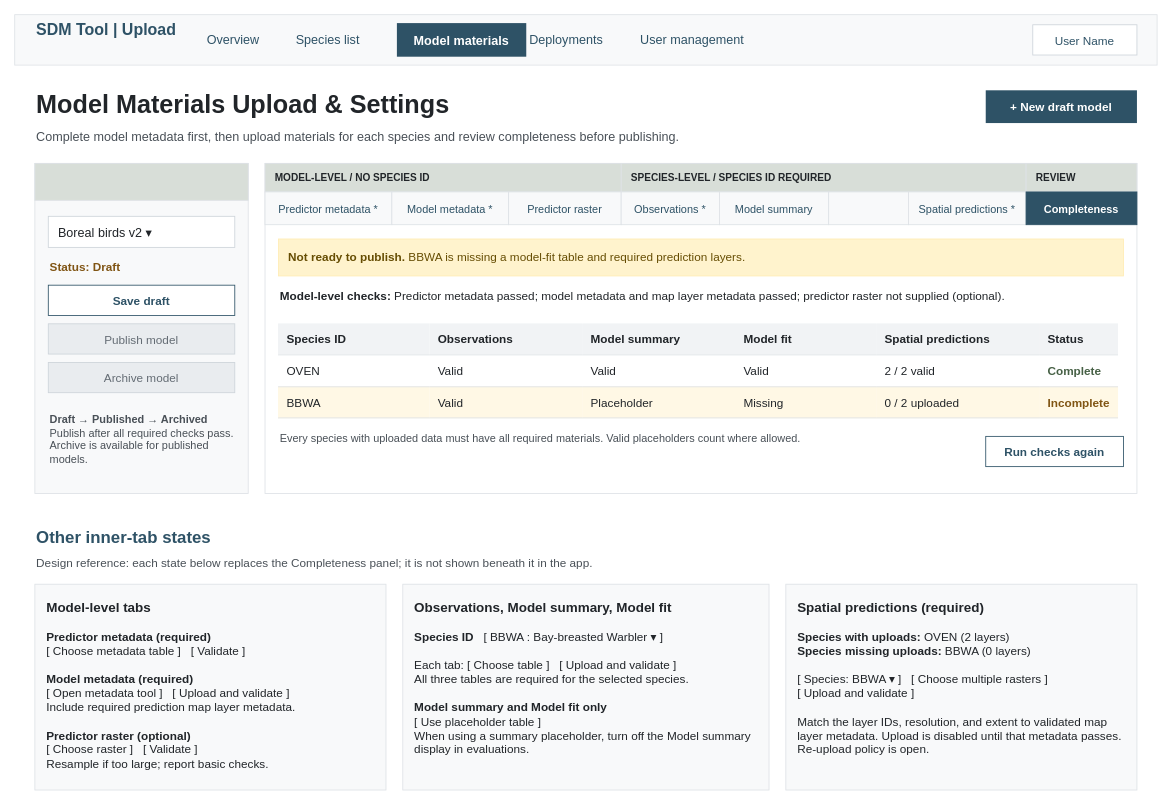
The diagram is 1172 pixels wide and 805 high, and some of its shapes have lost their labels. Each missing label, with the box of its shape:
Current model: (34, 163, 248, 200)
Model fit: (828, 191, 908, 225)
